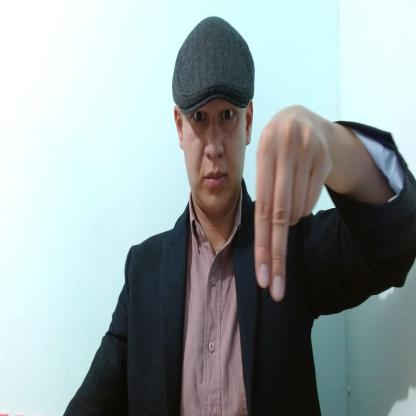N: (255, 106, 331, 302)
